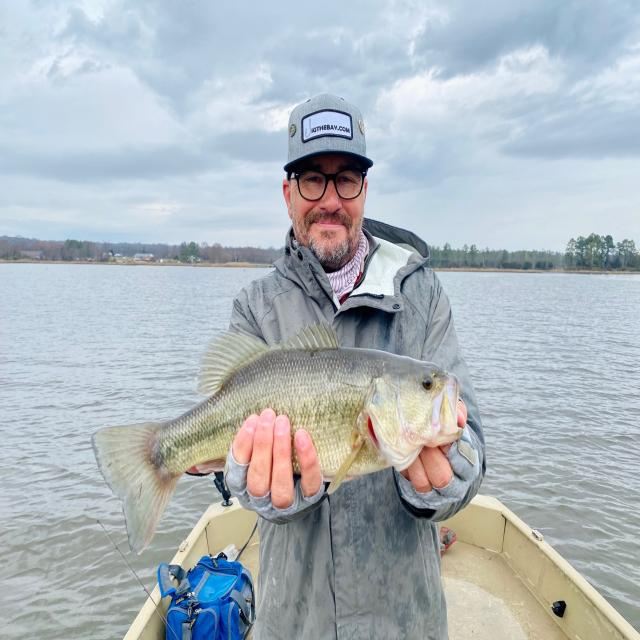Bass - Largemouth: (92, 324, 460, 553)
